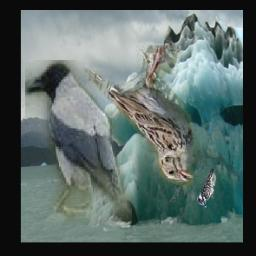Crow: (26, 61, 133, 231)
Sparrow: (84, 46, 194, 189)
Woodpecker: (198, 170, 220, 209)
